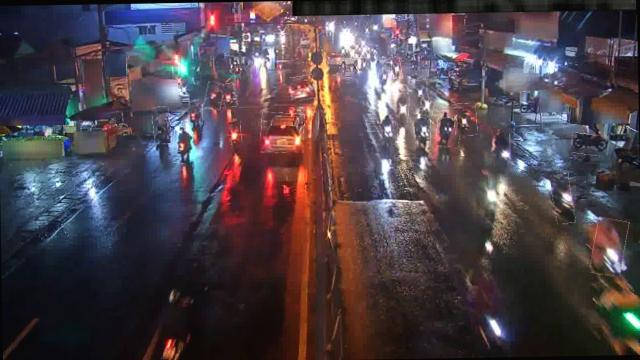Bike: (591, 218, 627, 276), (552, 174, 574, 224), (572, 133, 609, 156), (453, 103, 477, 136), (151, 106, 171, 144), (492, 126, 510, 168), (435, 117, 461, 146), (172, 130, 194, 163), (490, 94, 523, 111), (408, 80, 428, 108), (382, 116, 398, 150), (205, 82, 224, 110), (416, 116, 432, 148), (412, 95, 434, 115), (396, 93, 408, 124), (222, 82, 236, 106), (188, 103, 202, 125), (231, 121, 241, 148), (391, 56, 402, 78), (377, 70, 389, 88)
Car: (260, 112, 304, 153), (290, 75, 315, 100)
